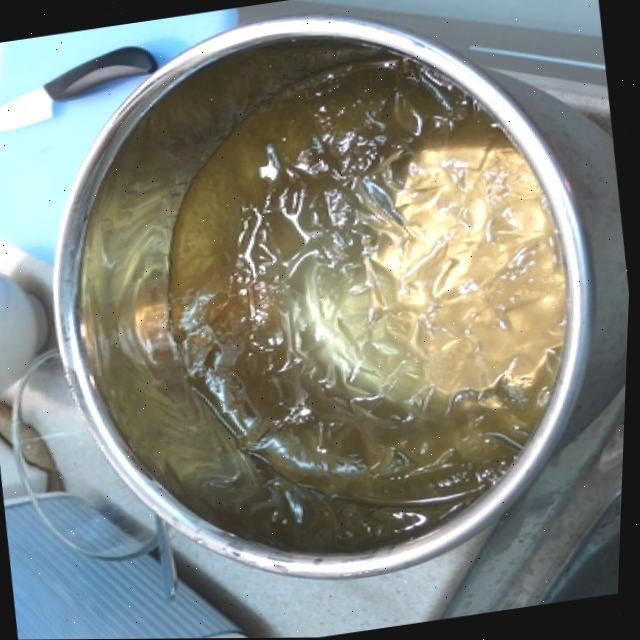蛋糕甜品: (7, 0, 623, 608)
